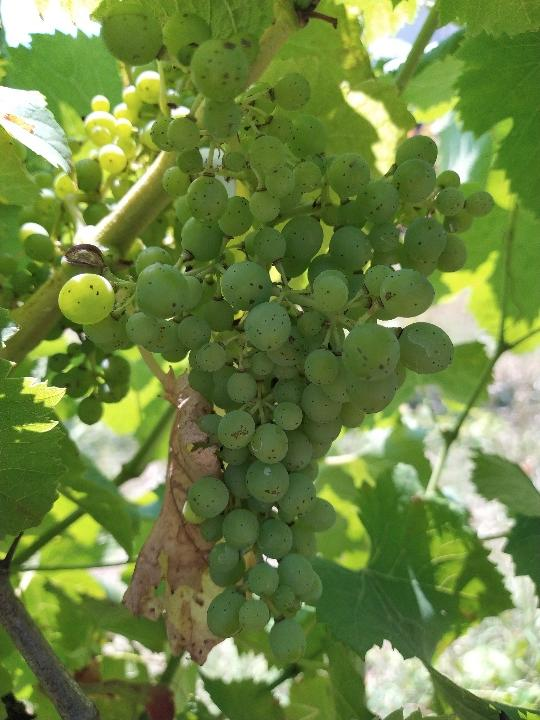grape: (53, 4, 498, 671)
